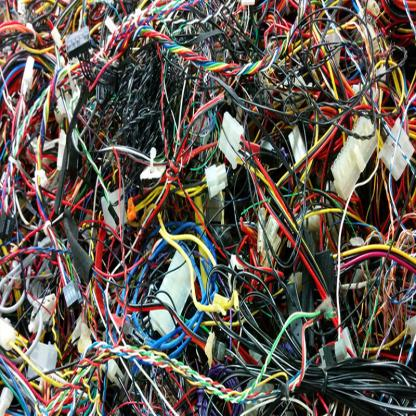wires: (0, 1, 415, 415)
